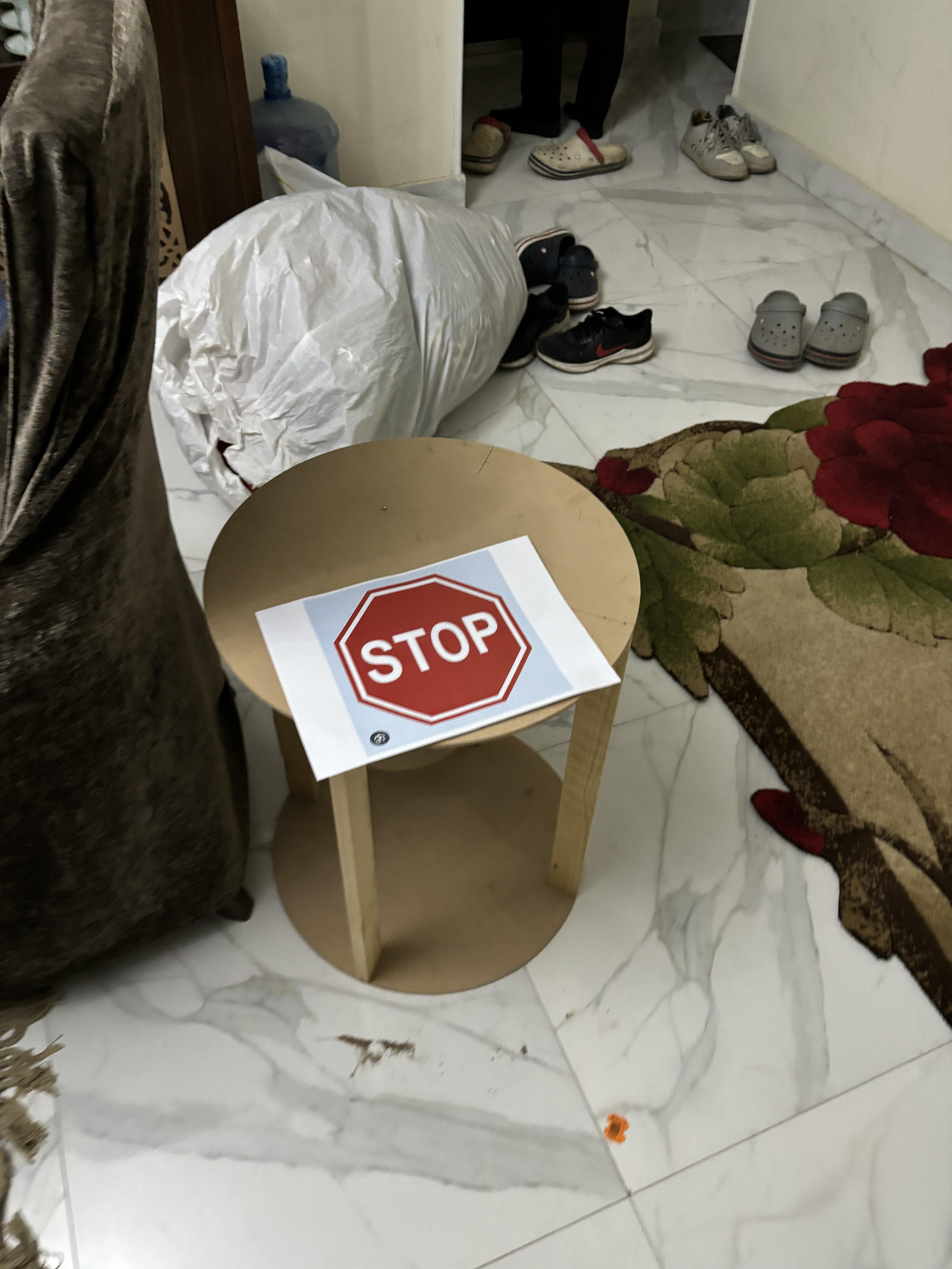Stop: (331, 567, 536, 732)
